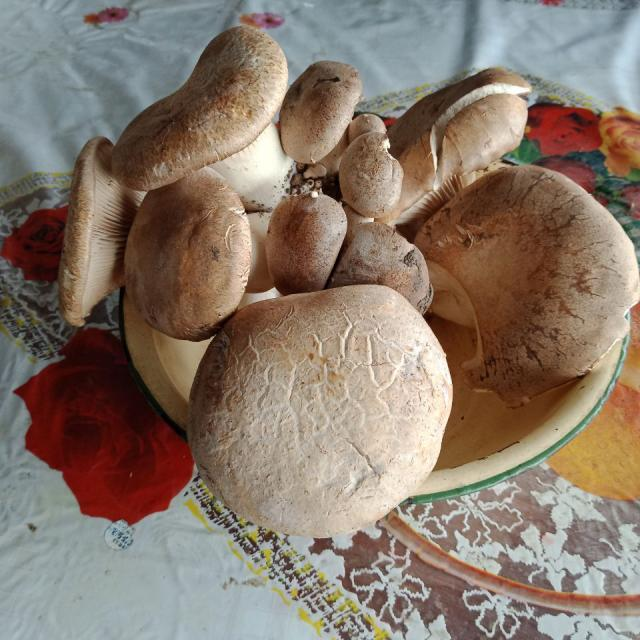Pleurotus cystidiosus: (44, 27, 531, 340), (188, 282, 454, 533), (417, 167, 640, 409)
